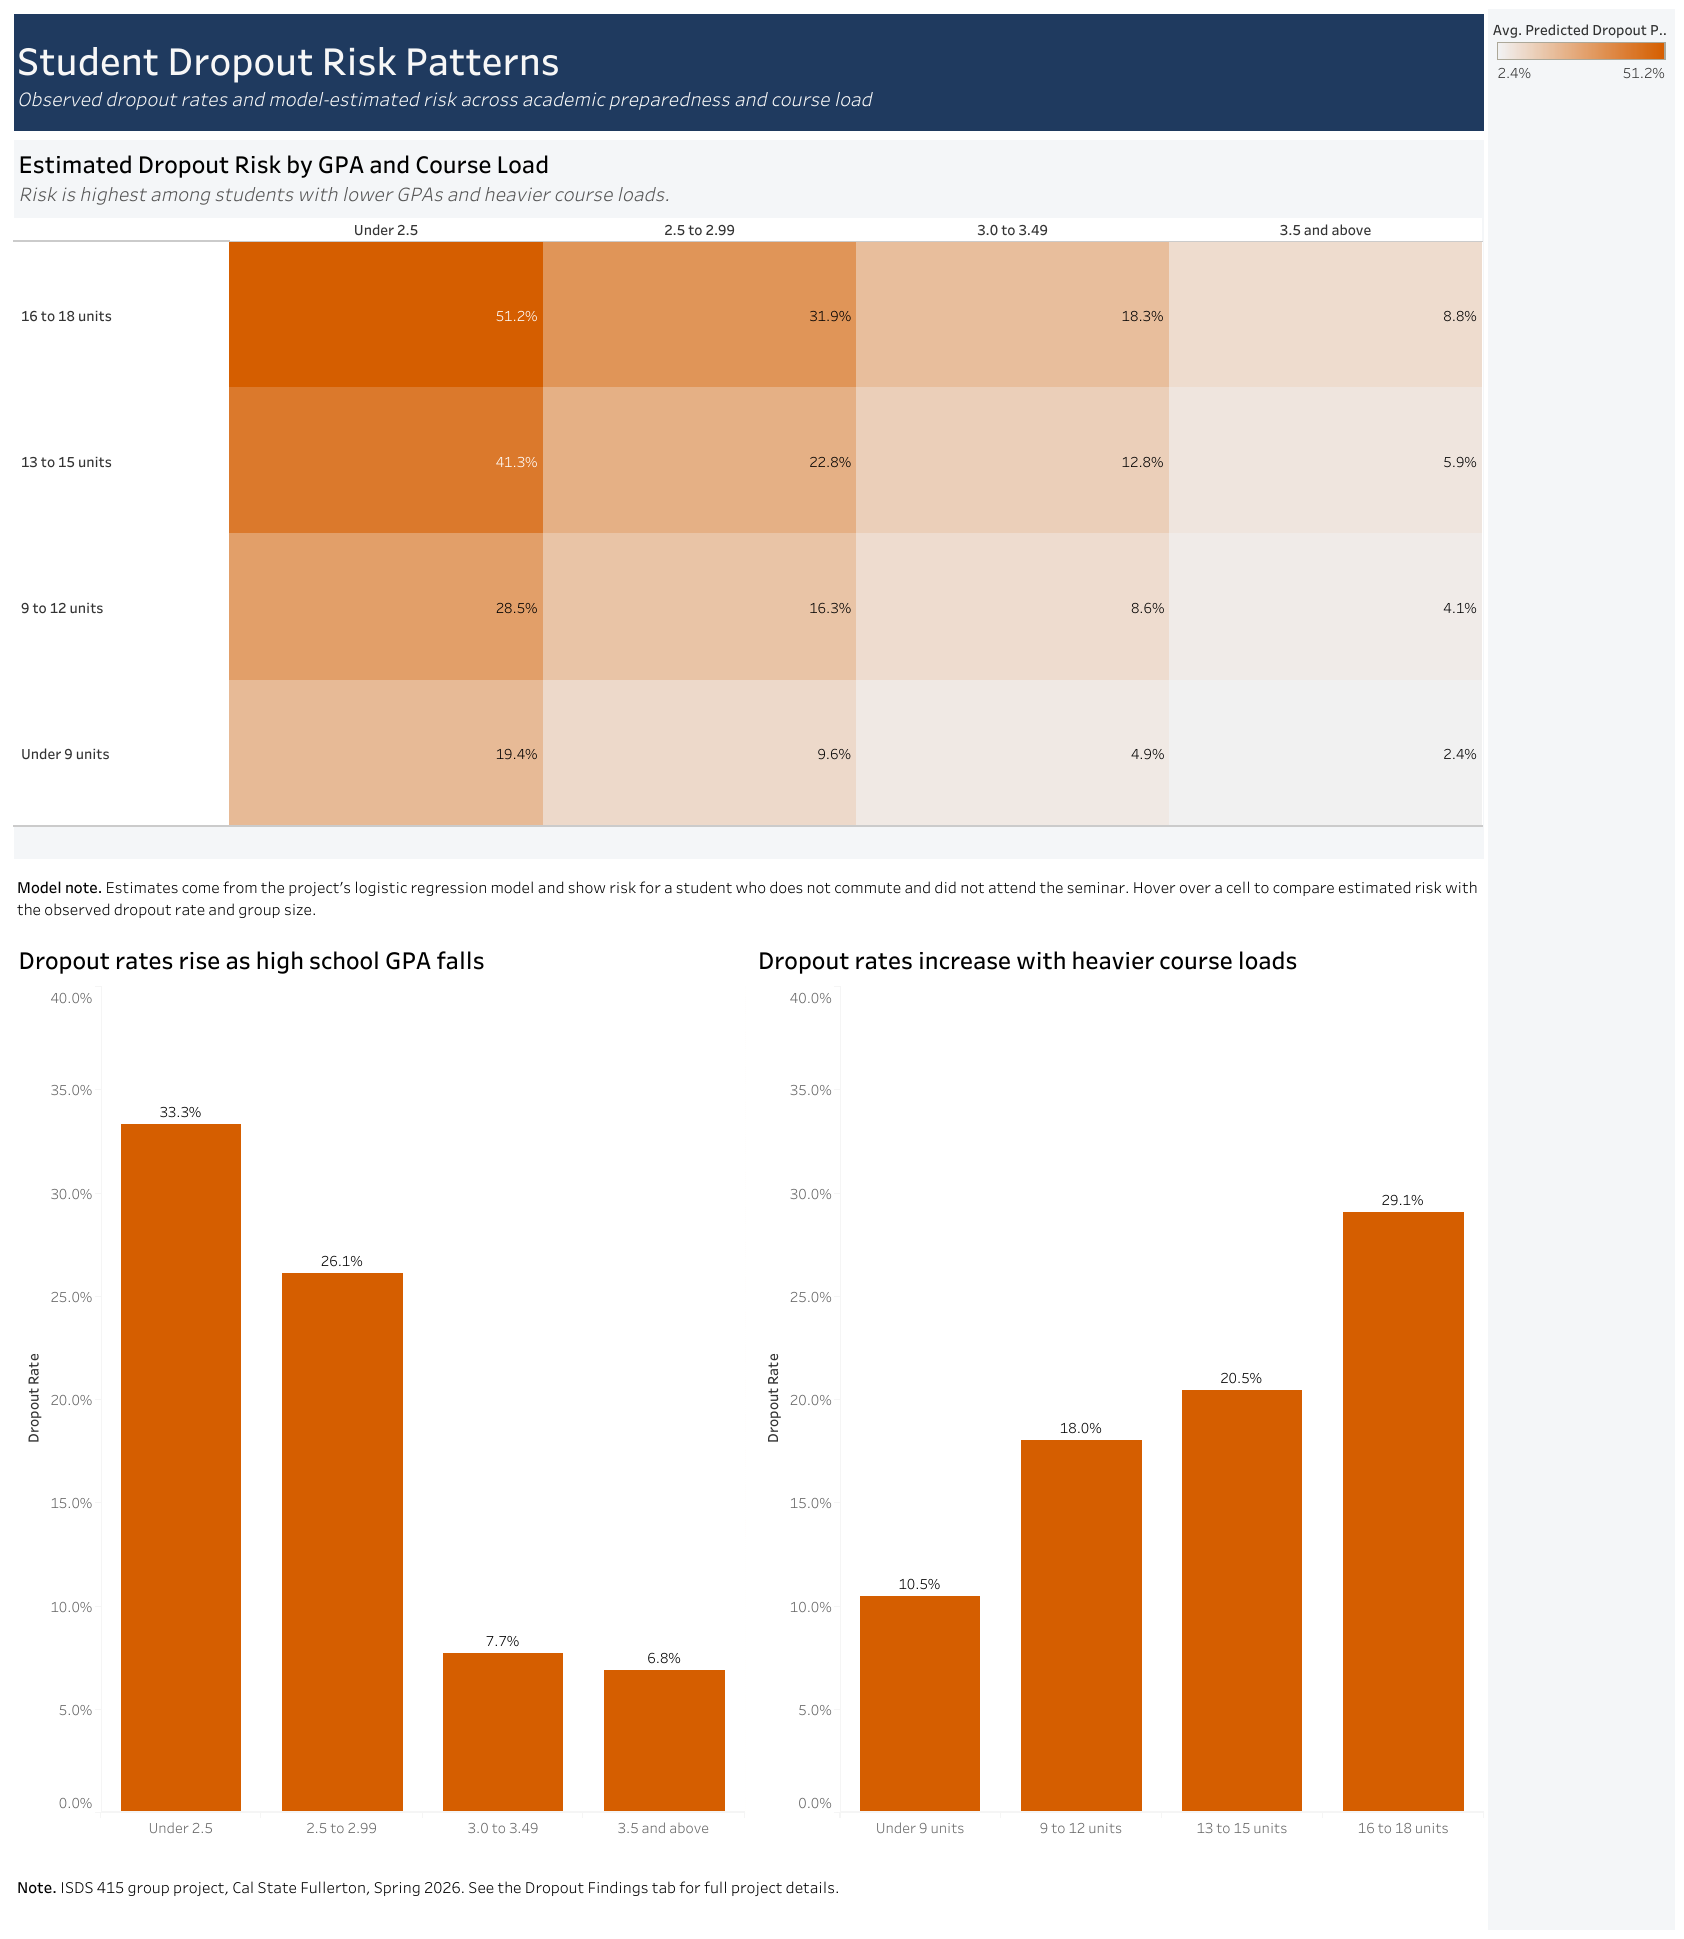

Layout of this report page (visuals, bound fields, positions):
{"tool":"tableau","page":{"name":"Student Dropout Risk Patterns ","canvas":[1440,1658],"ordinal":1},"visuals":[{"type":"text","box":[8,8,1264,108]},{"type":"legend","title":"GPA × Course Load Risk","param":"[federated.1v3e73k0fmrvvj1b8kepo1pbn0pr].[avg:Calculation_0747164564557829:qk]","box":[1272,8,160,81]},{"type":"worksheet","title":"GPA × Course Load Risk","mark":"Square","rows":["Calculation_0747164561408004"],"cols":["Calculation_0747164560896003"],"box":[8,116,1264,622]},{"type":"text","box":[8,738,1264,57]},{"type":"worksheet","title":"Dropout Rate by GPA","mark":"Automatic","rows":["Calculation_0747164255289344"],"cols":["Calculation_0747164560896003"],"box":[8,796.4,631.9,778.6]},{"type":"worksheet","title":"Dropout Rate by Course Load","mark":"Automatic","rows":["Calculation_0747164255289344"],"cols":["Calculation_0747164561408004"],"box":[639.9,796.4,632.1,778.6]},{"type":"text","box":[8,1575,1264,75]}]}

Visuals, with their boxes in screenshot pixels (x1, y1, x2, y2), scaled from the page's 1440x1658 canvas onto the 1684x1939 screenshot:
text: 9,9,1488,136
"GPA × Course Load Risk" legend: 1488,9,1675,104
"GPA × Course Load Risk" worksheet (Square marks): 9,136,1488,863
text: 9,863,1488,930
"Dropout Rate by GPA" worksheet: 9,931,748,1842
"Dropout Rate by Course Load" worksheet: 748,931,1488,1842
text: 9,1842,1488,1930
